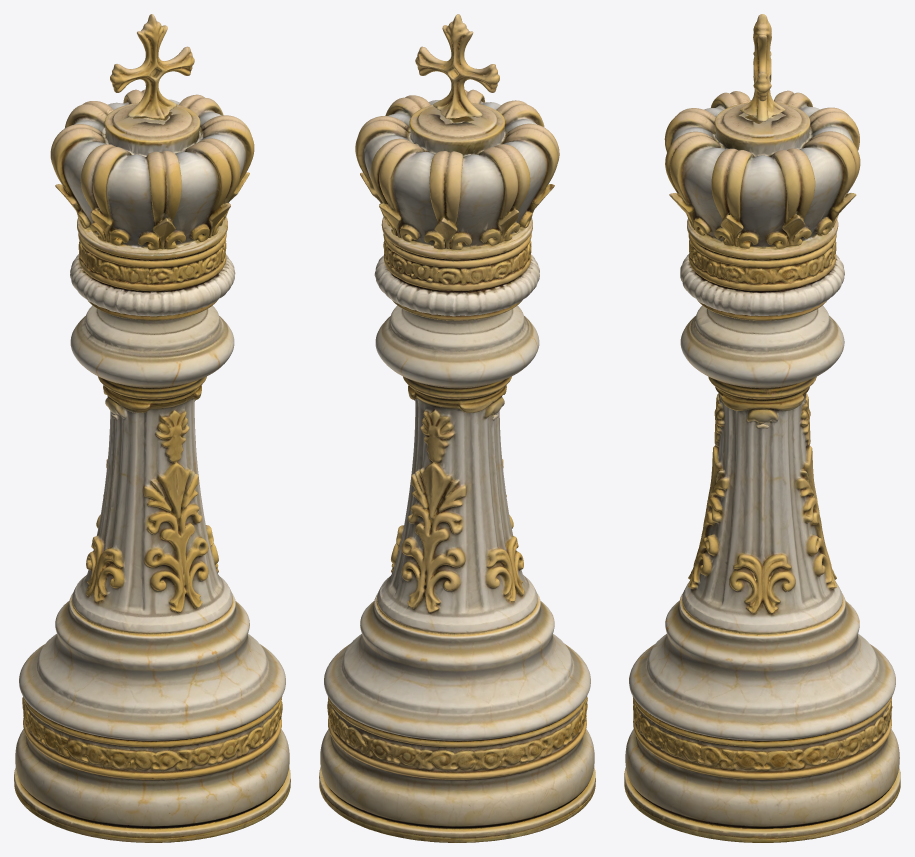
File: baroque_queen_white_opt.glb
3 views of the same model, side by side, from view 1: azimuth 30°, elevation 25°; view 2: azimuth 150°, elevation 25°; view 3: azimuth 270°, elevation 25° (orthographic).
Bounding box in the file's own units: 0.6173 × 1.9 × 0.6173.
1 material, 1 textured.
